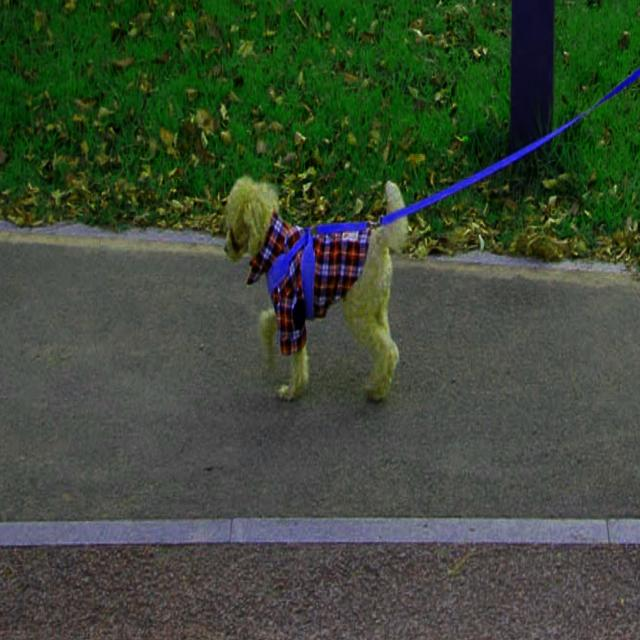Dog: (224, 177, 409, 407)
